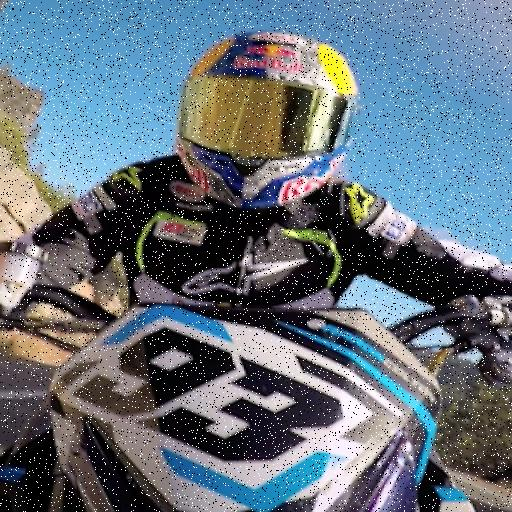Helmet: (172, 24, 362, 219)
Motor: (47, 272, 445, 512)
